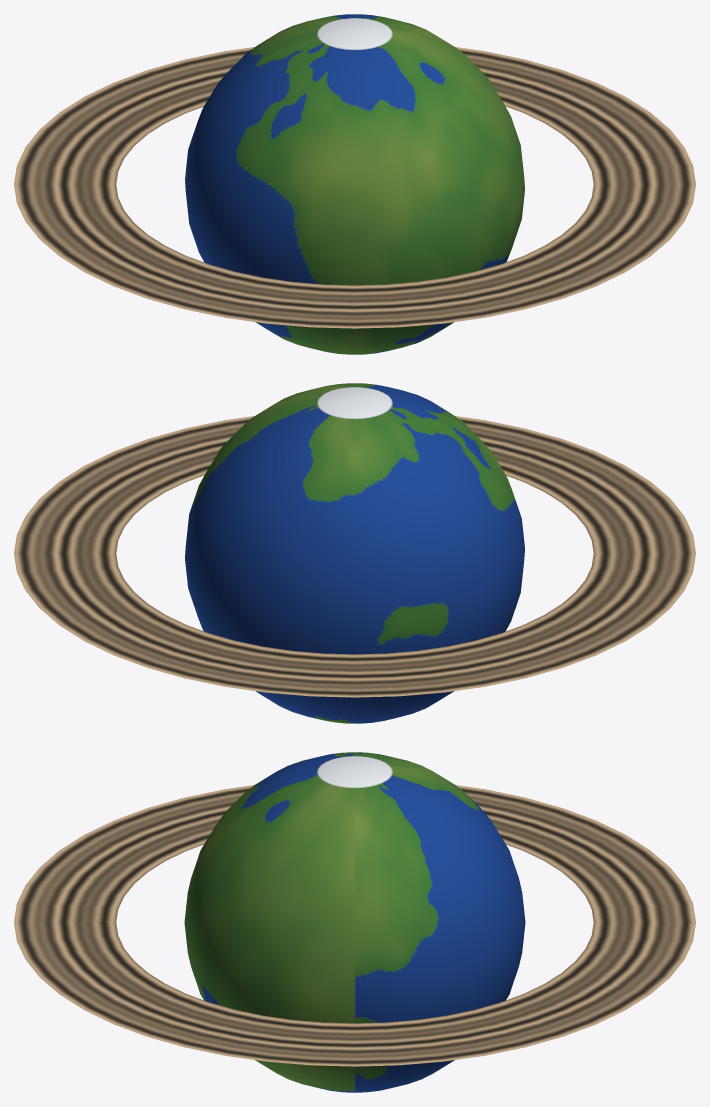
The model's file is planet.obj.
The picture shows the model from 3 angles, top to bottom: view 1: azimuth 30°, elevation 25°; view 2: azimuth 150°, elevation 25°; view 3: azimuth 270°, elevation 25°; orthographic projection.
Parts seen in each view (by area): view 1: planet, rings; view 2: planet, rings; view 3: planet, rings.
Boxes of the visible parts, x1,y1,x2,y2 form: planet: [185, 14, 524, 354]; rings: [14, 47, 695, 328]; planet: [185, 383, 524, 723]; rings: [14, 416, 695, 697]; planet: [184, 752, 525, 1092]; rings: [14, 785, 695, 1066].
Size of the model in its own units: 4 by 2 by 4.
2 materials, 2 textured.
